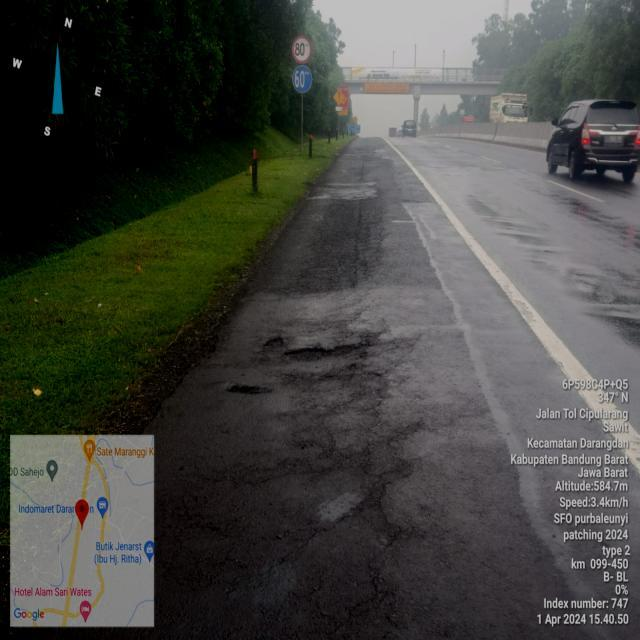Buraco: (280, 340, 374, 364), (222, 382, 274, 396), (260, 334, 285, 350)
